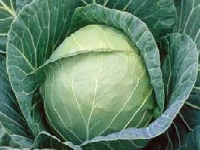cabbage: (39, 20, 162, 141)
